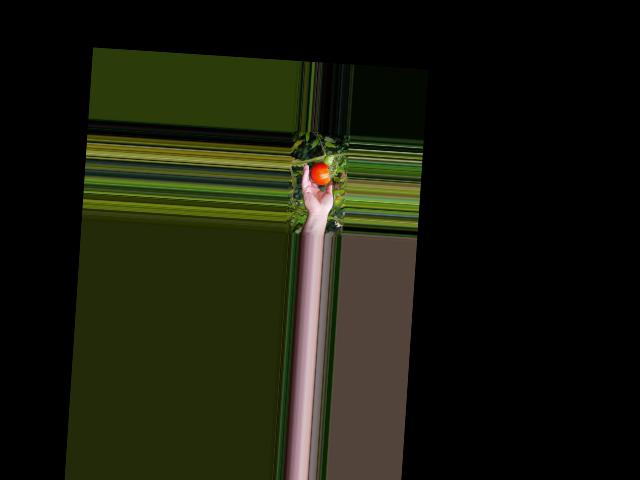tomato: (310, 161, 331, 186)
